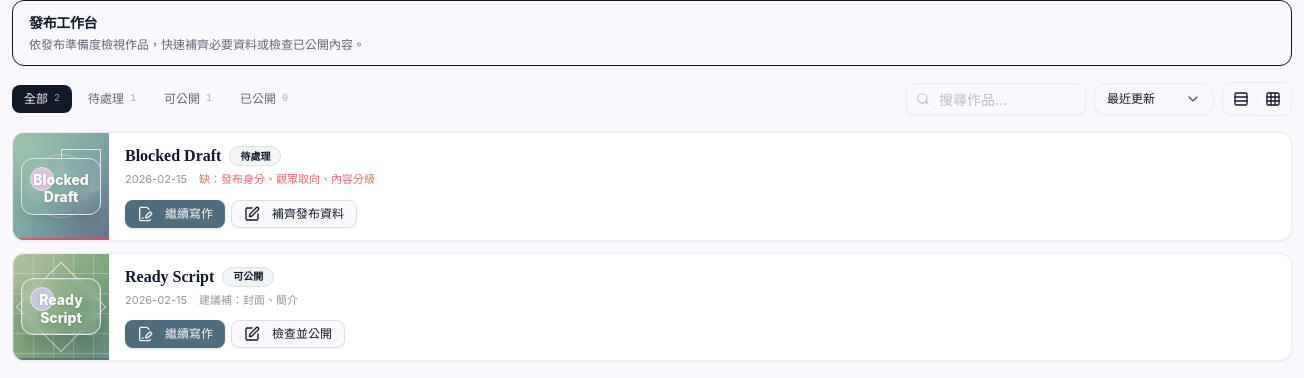
Scenario: PublisherWorksTab › filters by publish readiness instead of cover-only attributes
The image size is (1304, 378).
Click the button "可公開 1": (188, 99) x1=152 y1=85 x2=224 y2=113
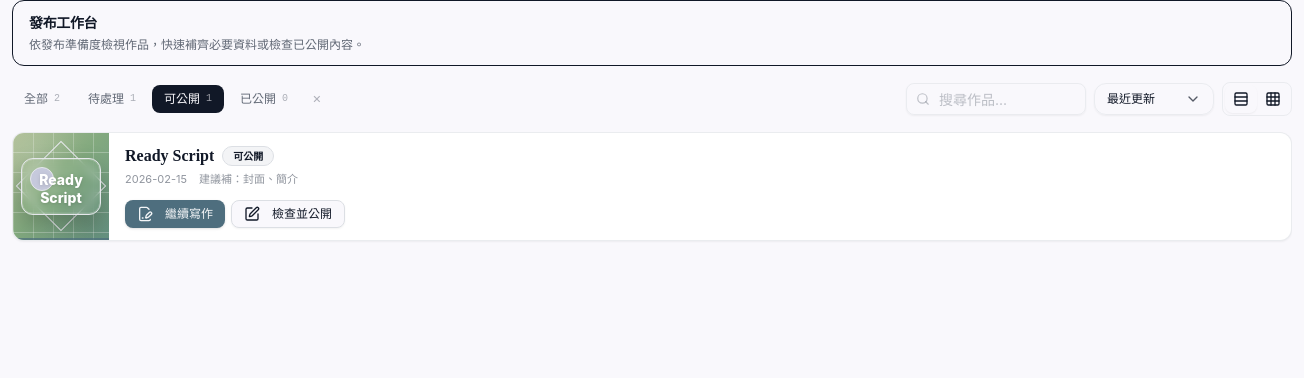
Expected: the text "Ready Script" is shown, x1=39 y1=171 x2=83 y2=205
Now the text "Blocked Draft" is gone
